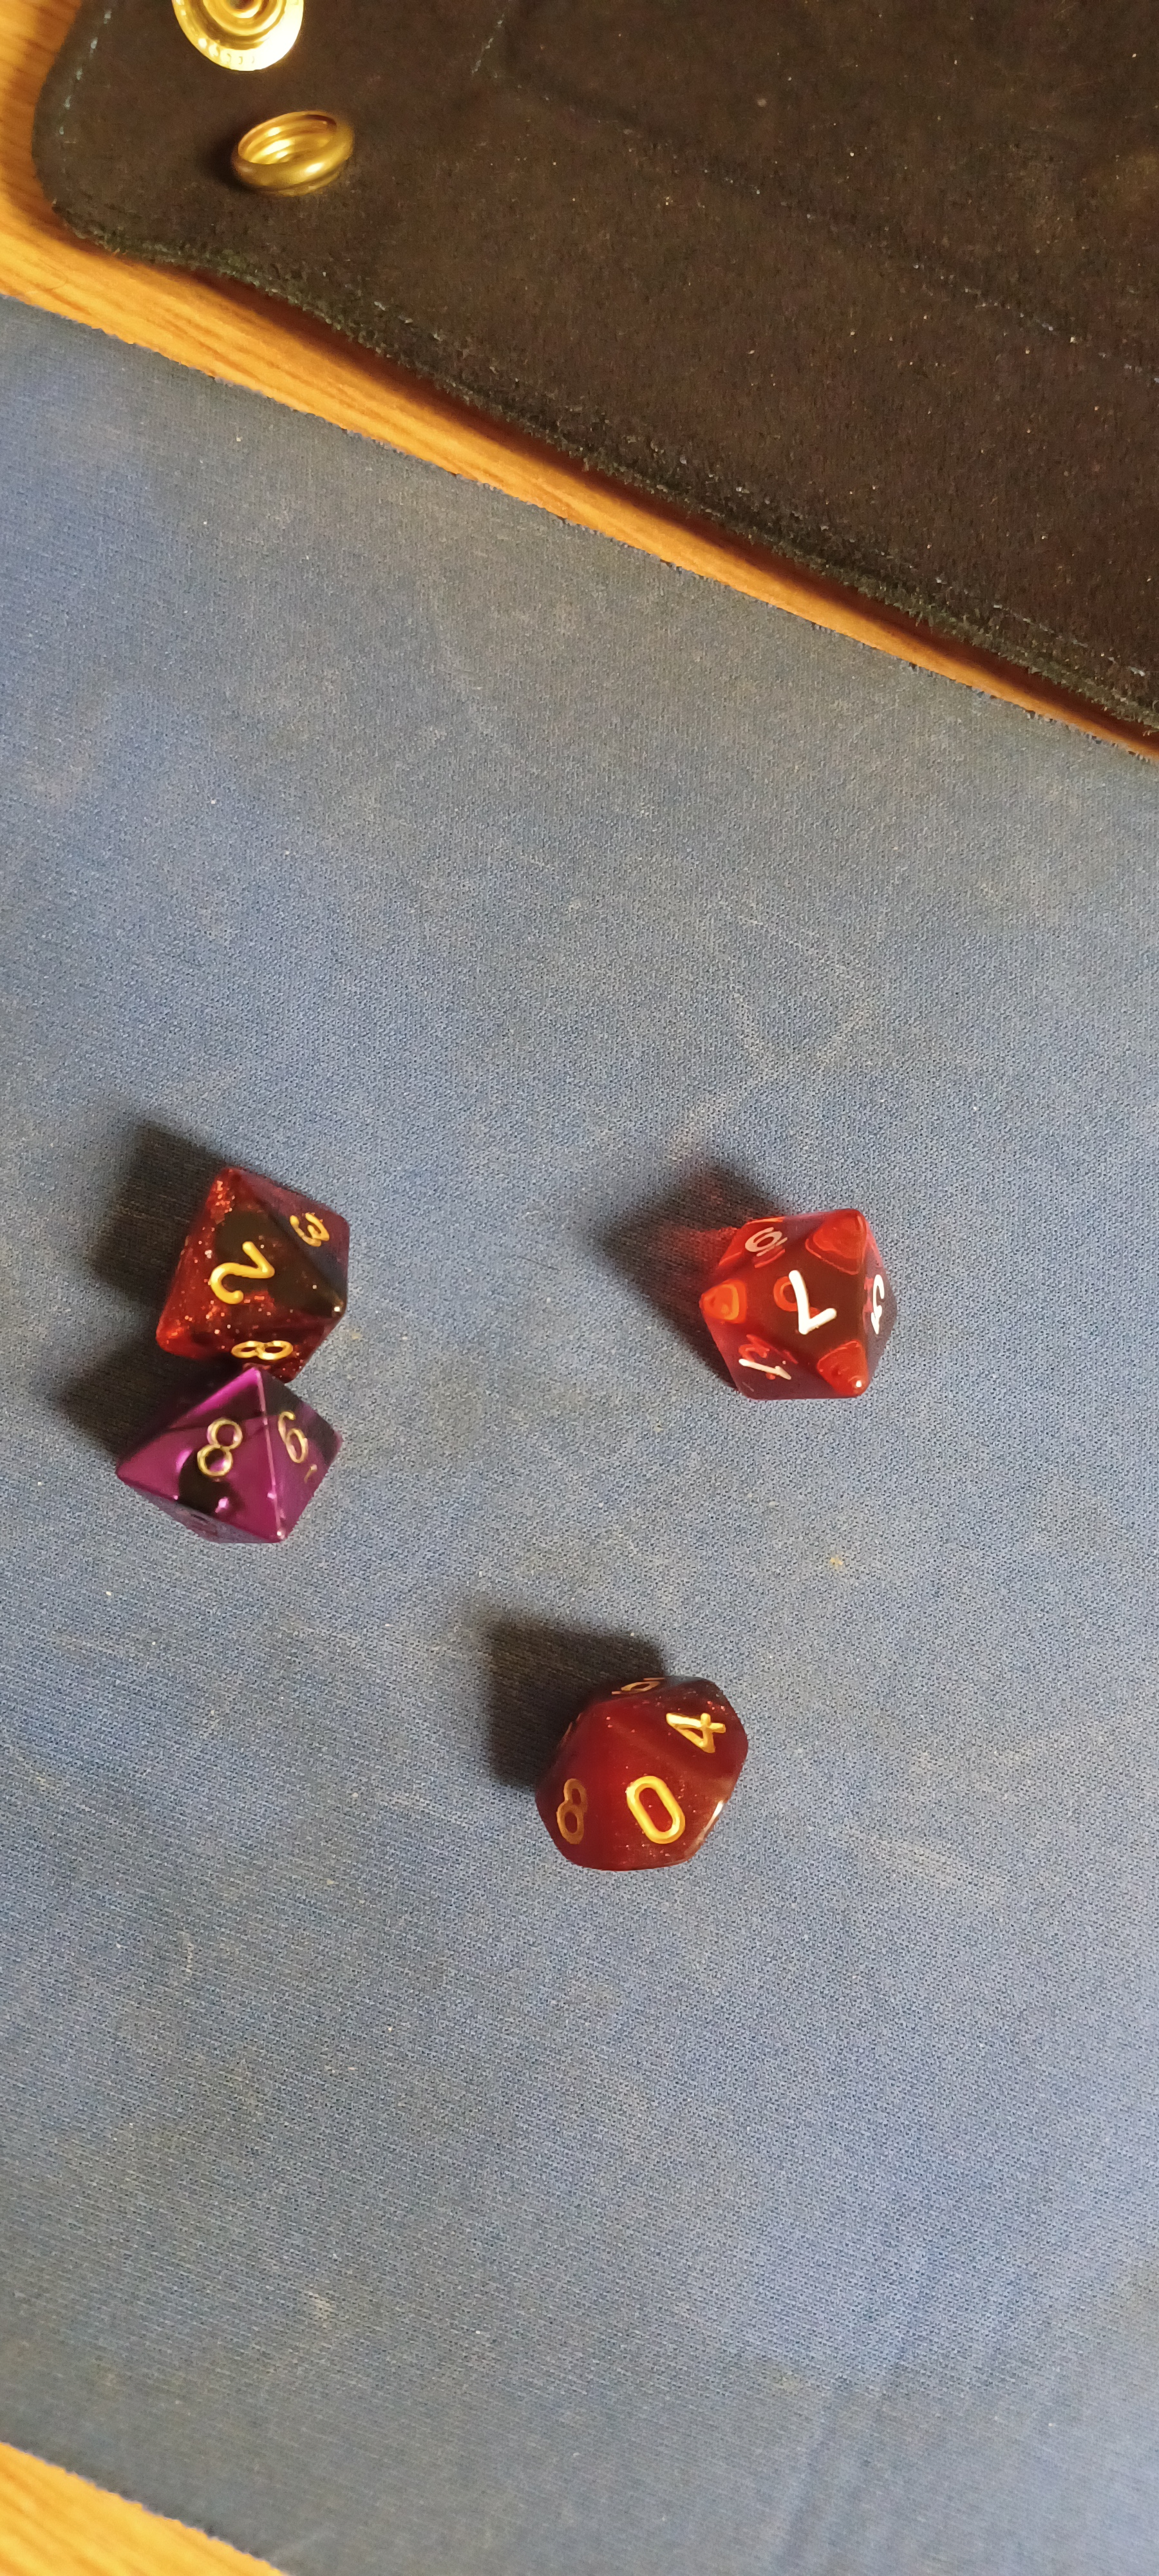eight: (98, 1352, 361, 1571)
seven: (665, 1178, 931, 1419)
two: (117, 1145, 396, 1388)
zero: (488, 1638, 780, 1904)
